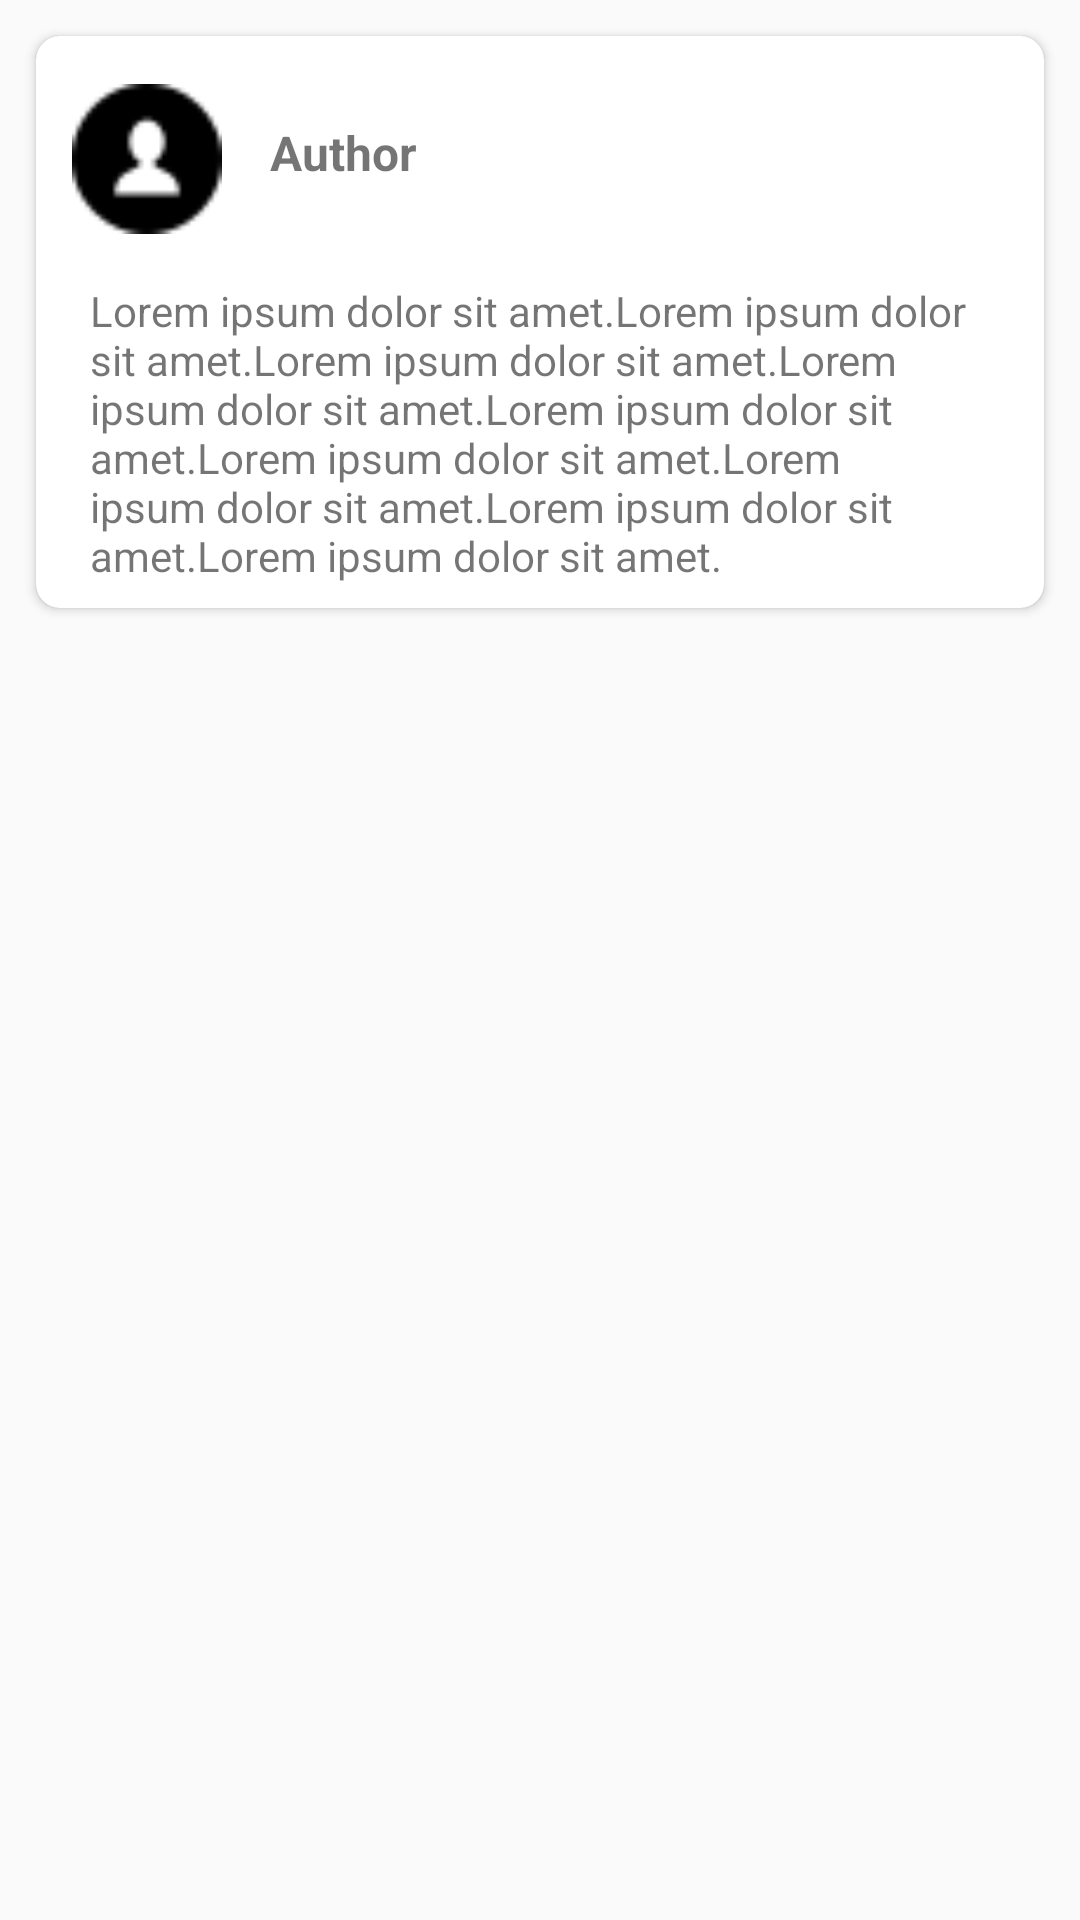

Where icons sit on this 1080px×1920px app screen, as Rect(x1, y1, x2, y2):
user: Rect(72, 84, 222, 234)
